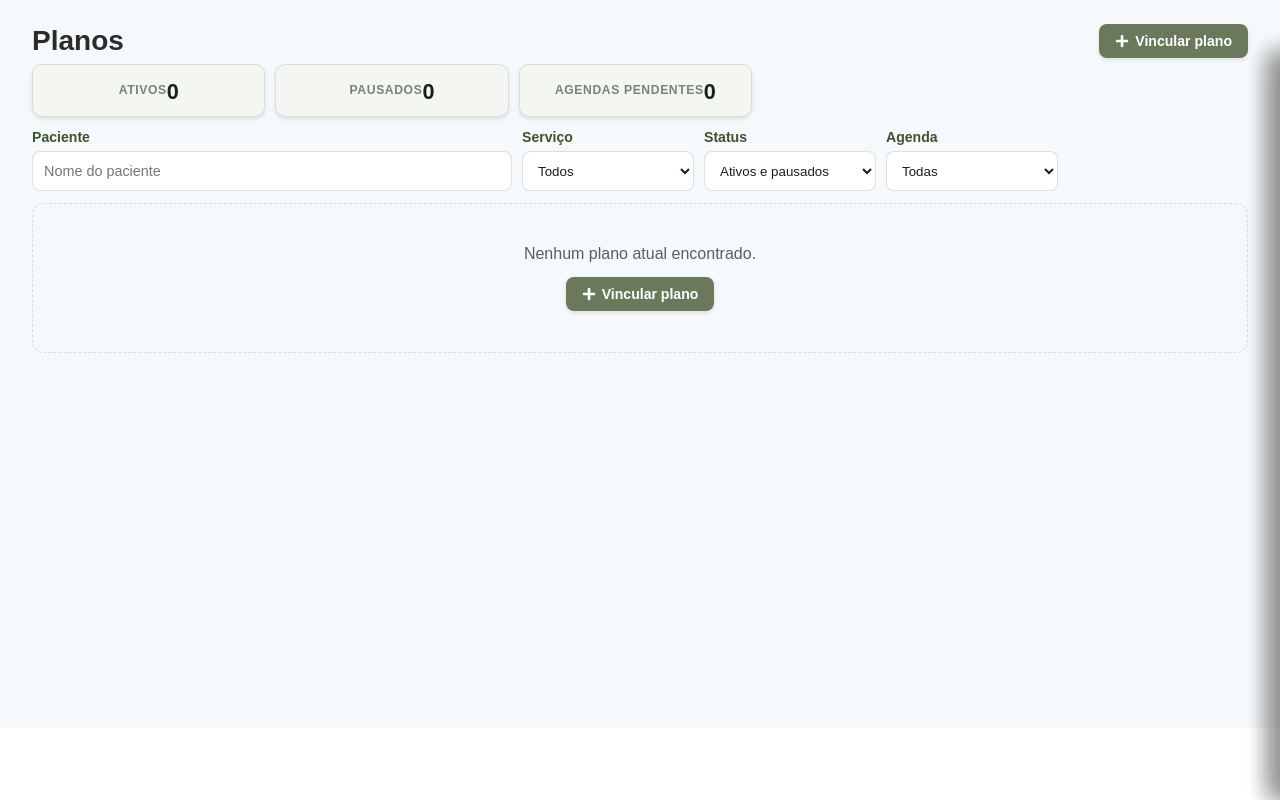
it: Planos no contêiner do App Shell › ignora resposta antiga quando uma busca mais recente já terminou
Type "busca lenta" into the search field with placeholder "Nome do paciente".
click(272, 171); type("busca lenta")  # box [32, 151, 512, 191]
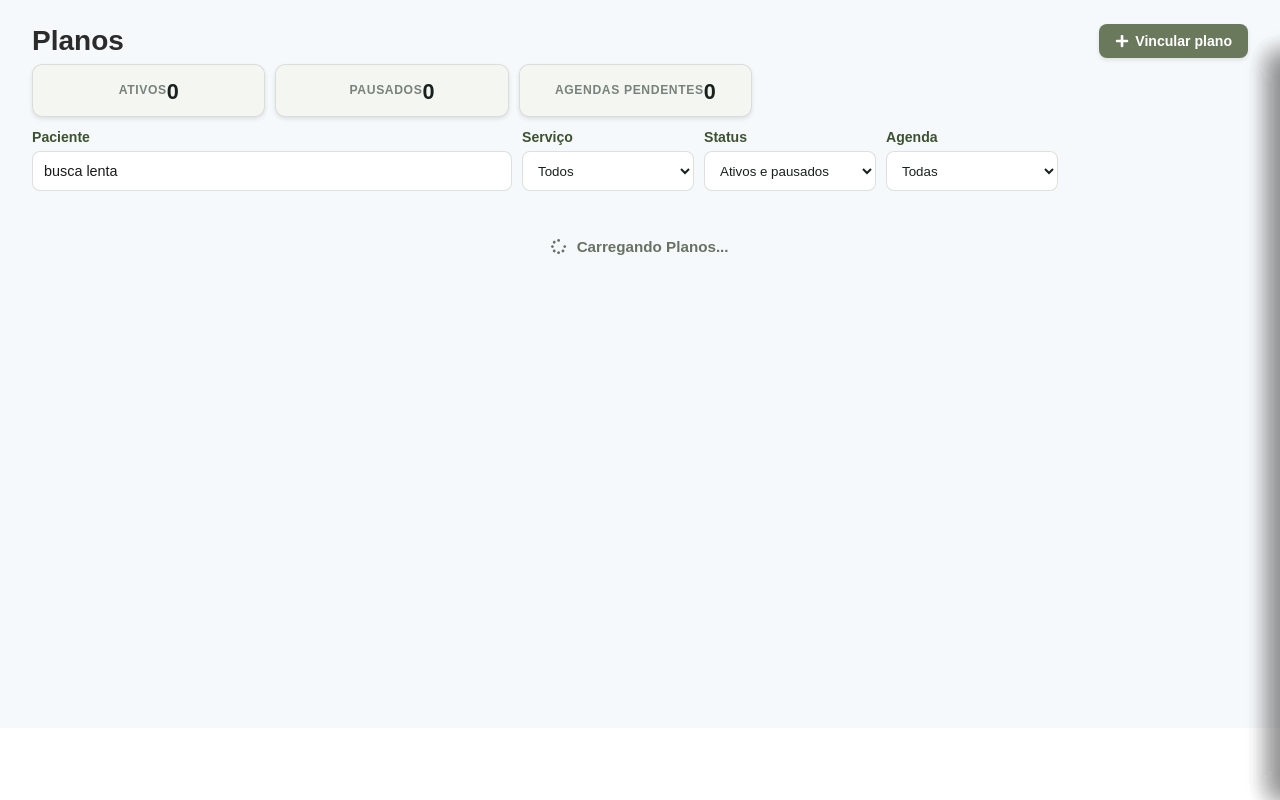
Replace the text in the search field with placeholder "Nome do paciente" with "busca nova" at [272, 171], box [32, 151, 512, 191]
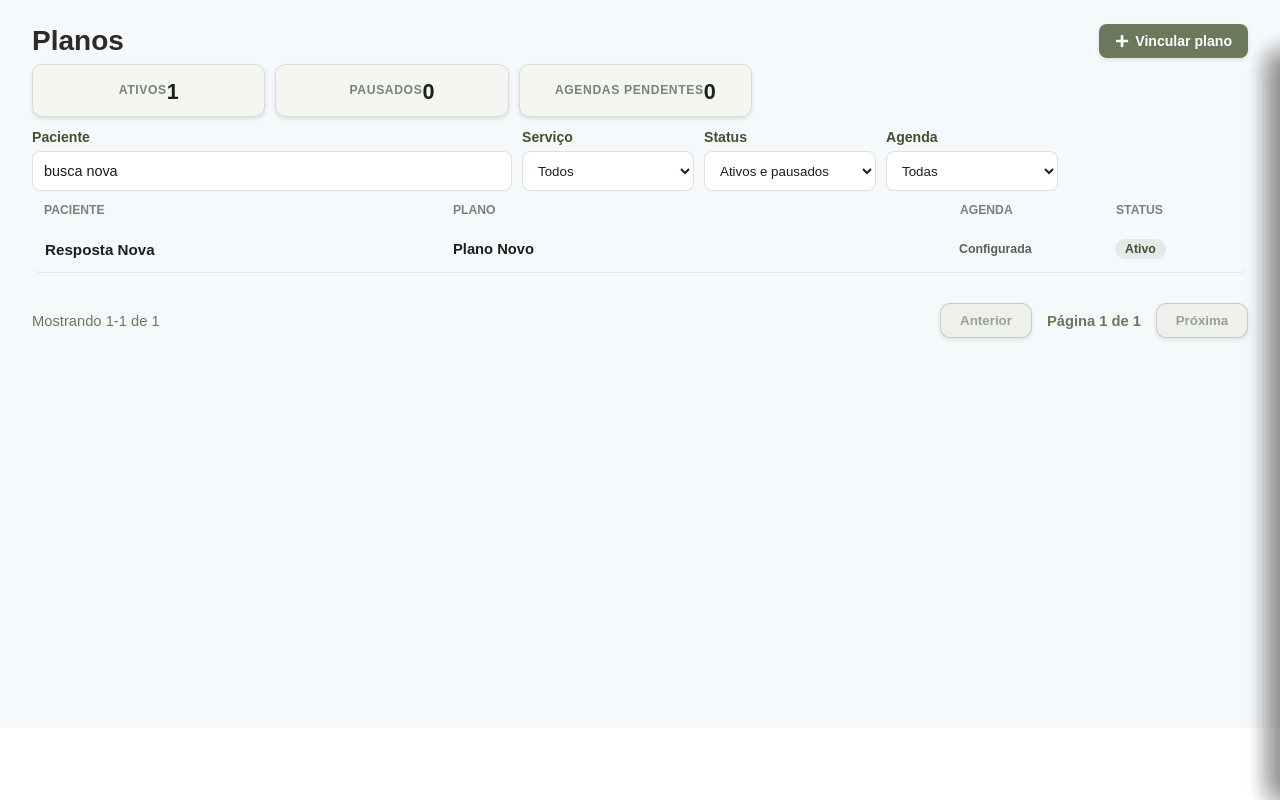
Expected: the text "Resposta Nova" is shown, [45, 241, 155, 258]
